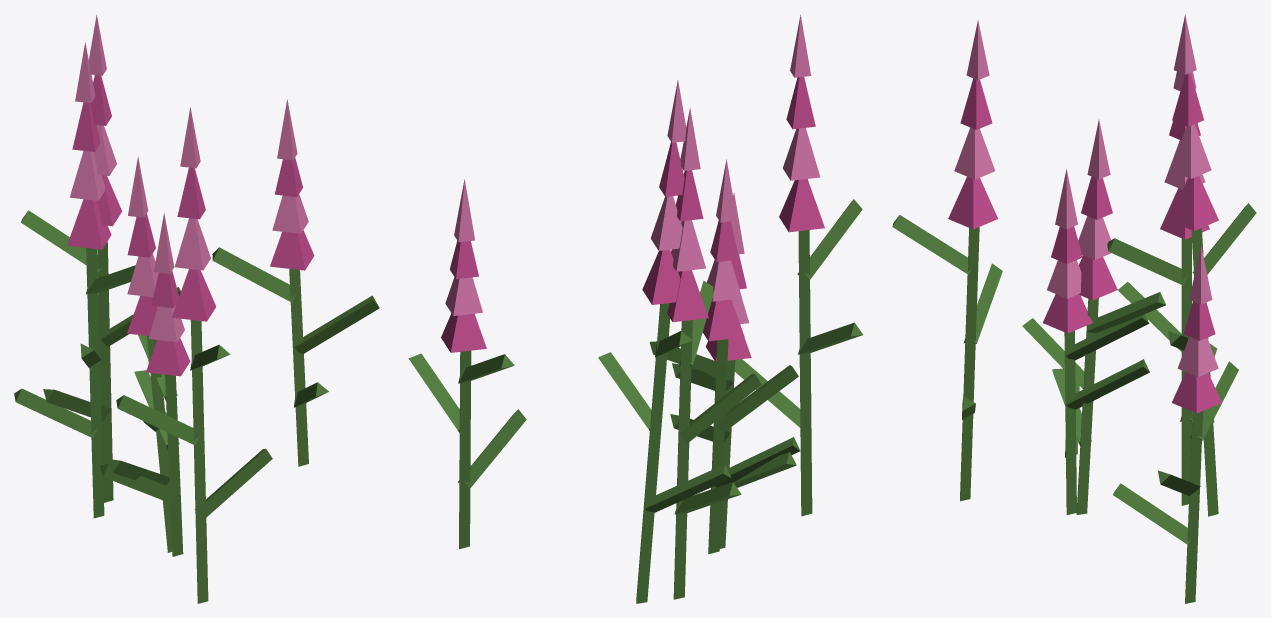
File: rallarros_1.glb
3 views of the same model, side by side, from view 1: azimuth 30°, elevation 25°; view 2: azimuth 150°, elevation 25°; view 3: azimuth 270°, elevation 25° (orthographic). The views are drawn at different scales.
Parts seen in each view (by area): view 1: rallarros_1; view 2: rallarros_1; view 3: rallarros_1.
Boxes of the visible parts, left/top/right/bottom form: rallarros_1: left=14, top=15, right=379, bottom=603; rallarros_1: left=408, top=15, right=863, bottom=603; rallarros_1: left=892, top=14, right=1256, bottom=603.
Bounding box in the file's own units: 1.02 × 1.4 × 0.9424.
